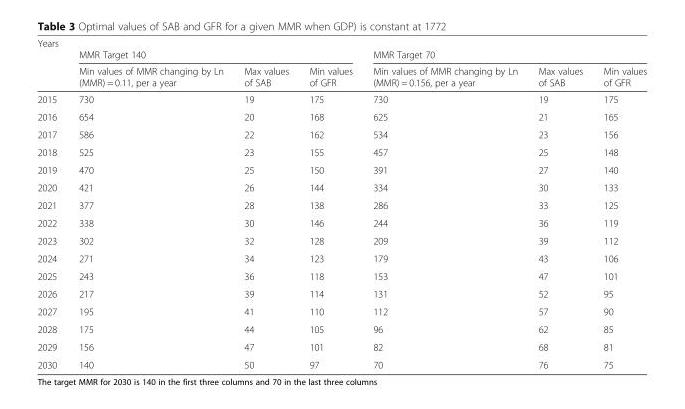table: (36, 37, 646, 369)
table column: (67, 37, 233, 369), (362, 37, 527, 369), (233, 37, 298, 369), (527, 37, 592, 369), (298, 37, 362, 369), (592, 37, 646, 369), (36, 37, 67, 369)
table column header: (36, 37, 646, 90)
table row: (36, 62, 646, 90), (36, 37, 646, 62), (36, 107, 646, 125), (36, 142, 646, 160), (36, 160, 646, 178), (36, 178, 646, 196), (36, 213, 646, 231), (36, 231, 646, 249), (36, 266, 646, 284), (36, 284, 646, 302), (36, 302, 646, 320), (36, 337, 646, 355), (36, 90, 646, 107), (36, 125, 646, 142), (36, 196, 646, 213), (36, 249, 646, 266), (36, 320, 646, 337), (36, 355, 646, 369)
table spanning cell: (67, 37, 362, 62), (362, 37, 646, 62), (36, 37, 67, 90)
